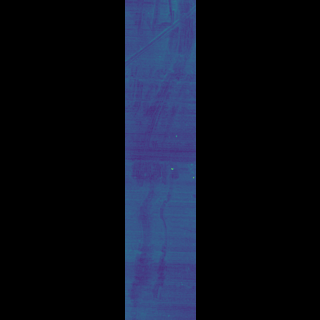Loch: (151, 0, 168, 145), (151, 158, 163, 302)
